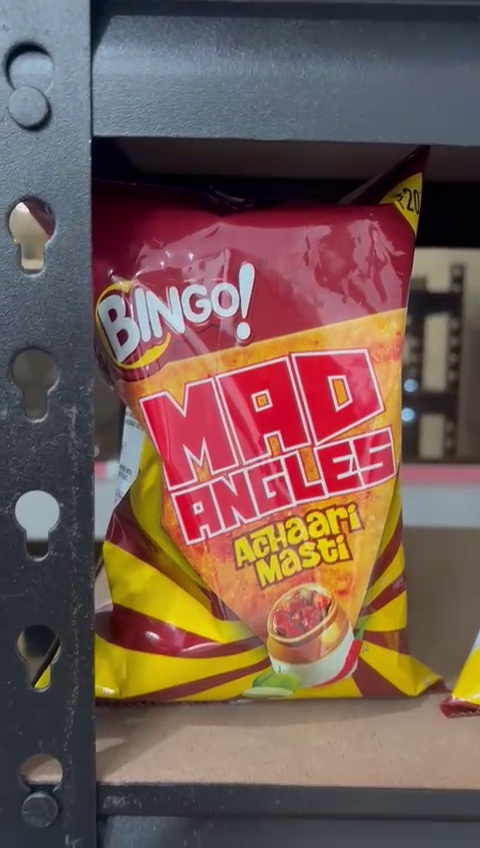Bingo Mad Angles: (93, 191, 439, 699)
